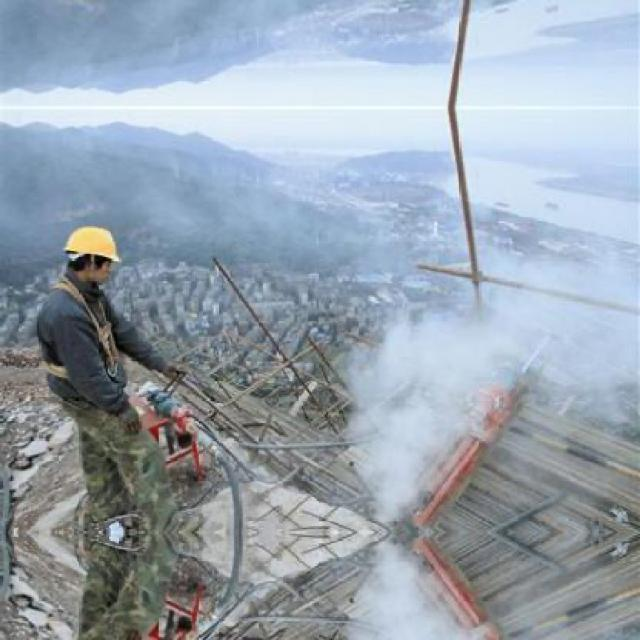helmet: (62, 218, 125, 290)
